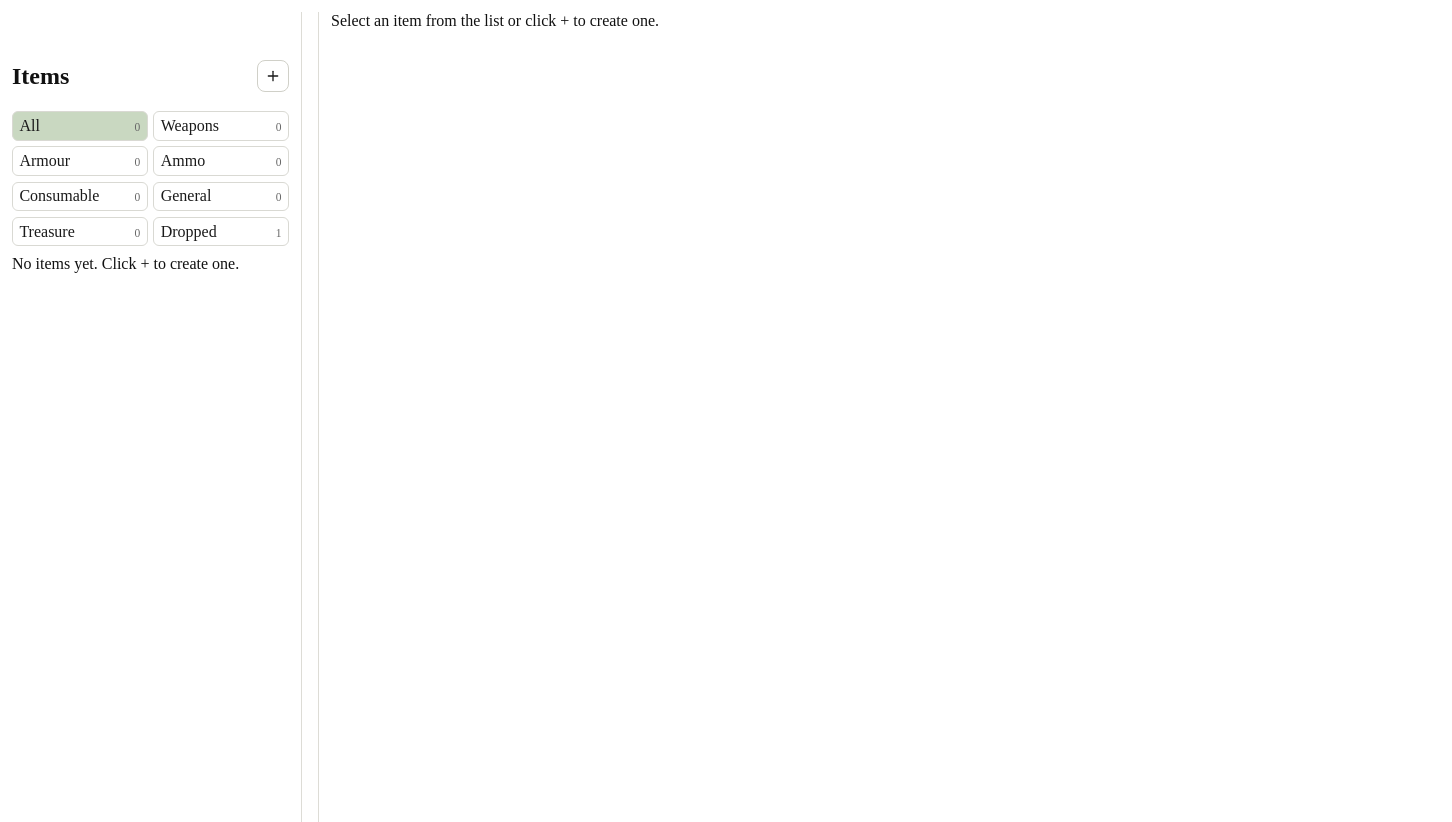
Test: Items tab character grants › refuses a character at stored version 0 with the plain message, writing nothing
Click the button "Dropped 1" at [221, 232], box 153,217 -> 289,246
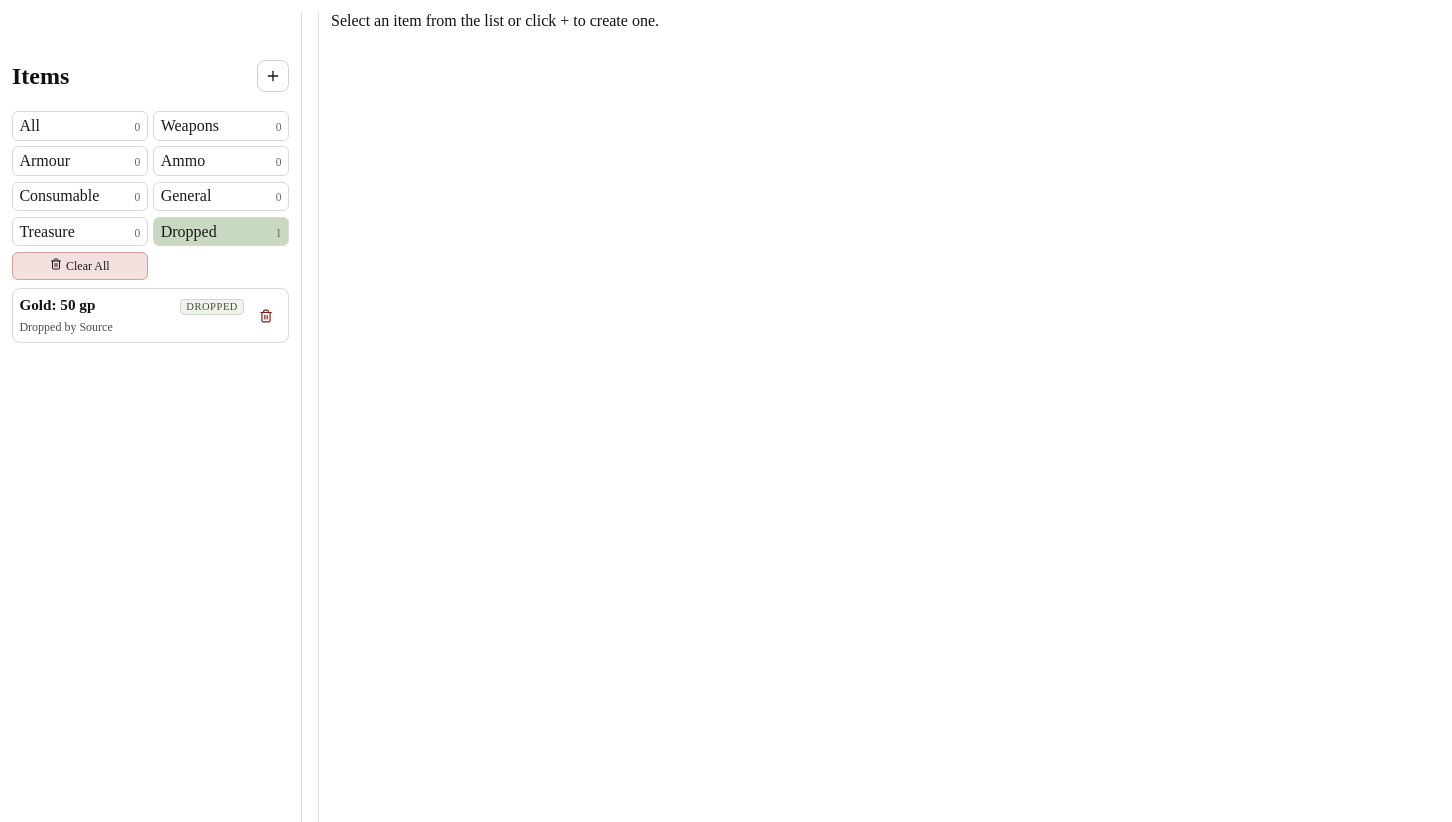
Click the button "Gold: 50 gp dropped Dropped by Source" at [57, 304], box 19,296 -> 244,336
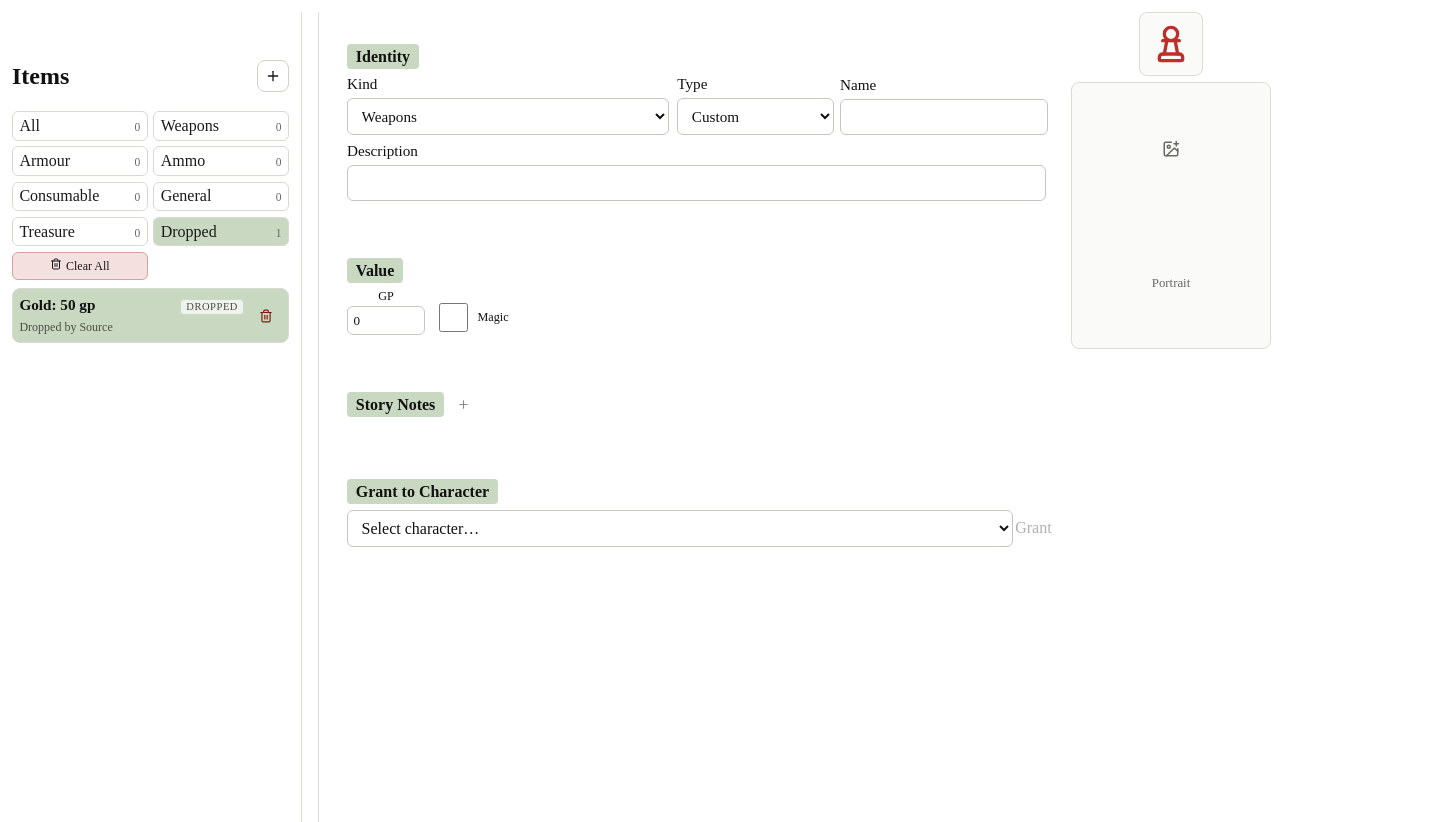
Select "Ada (Fighter 1)" in the 3rd dropdown at [680, 528], box 347,510 -> 1013,547
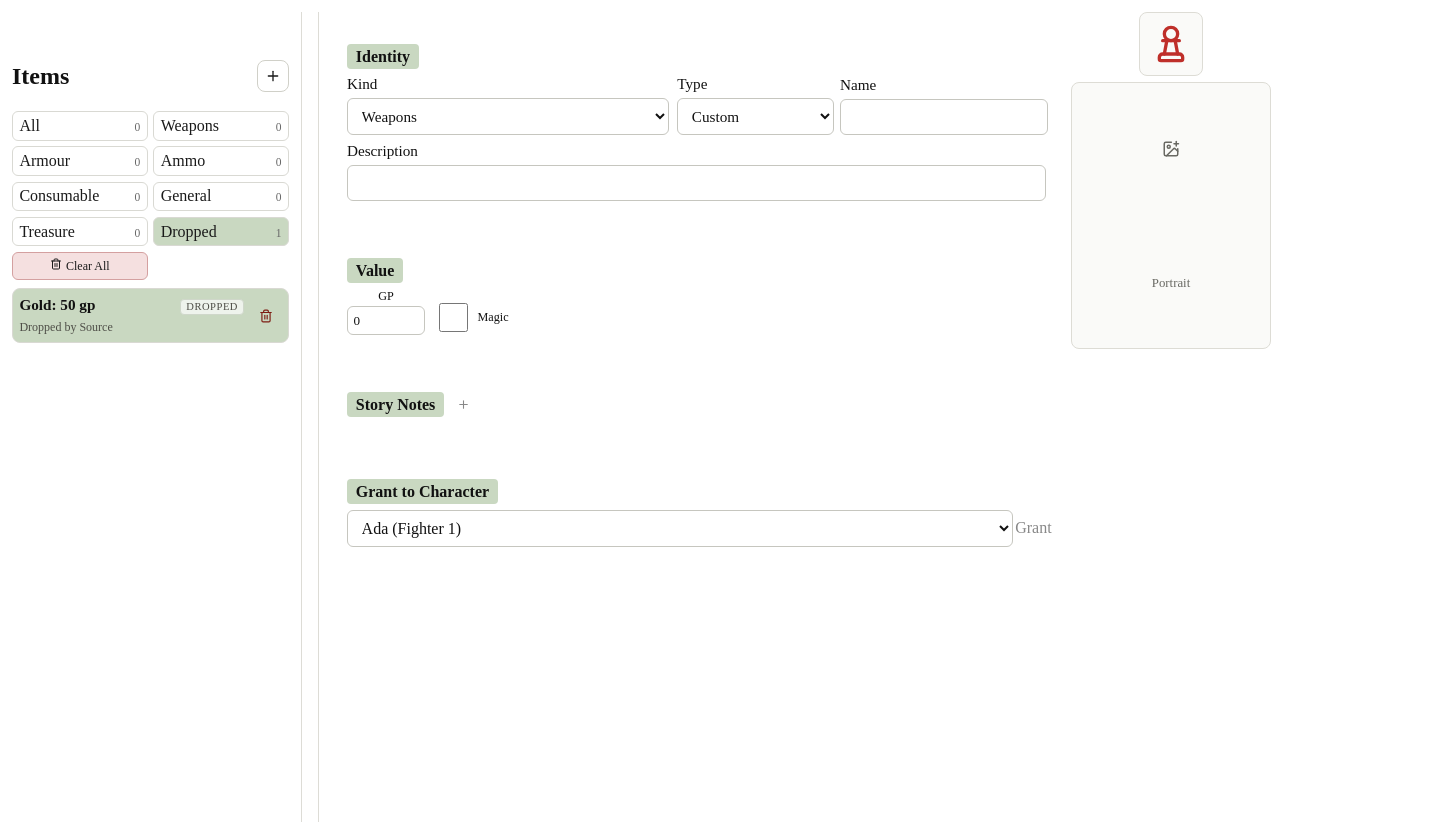
Click the button with aria-label "Grant item to selected character" at [1033, 528], box 1021,515 -> 1046,541
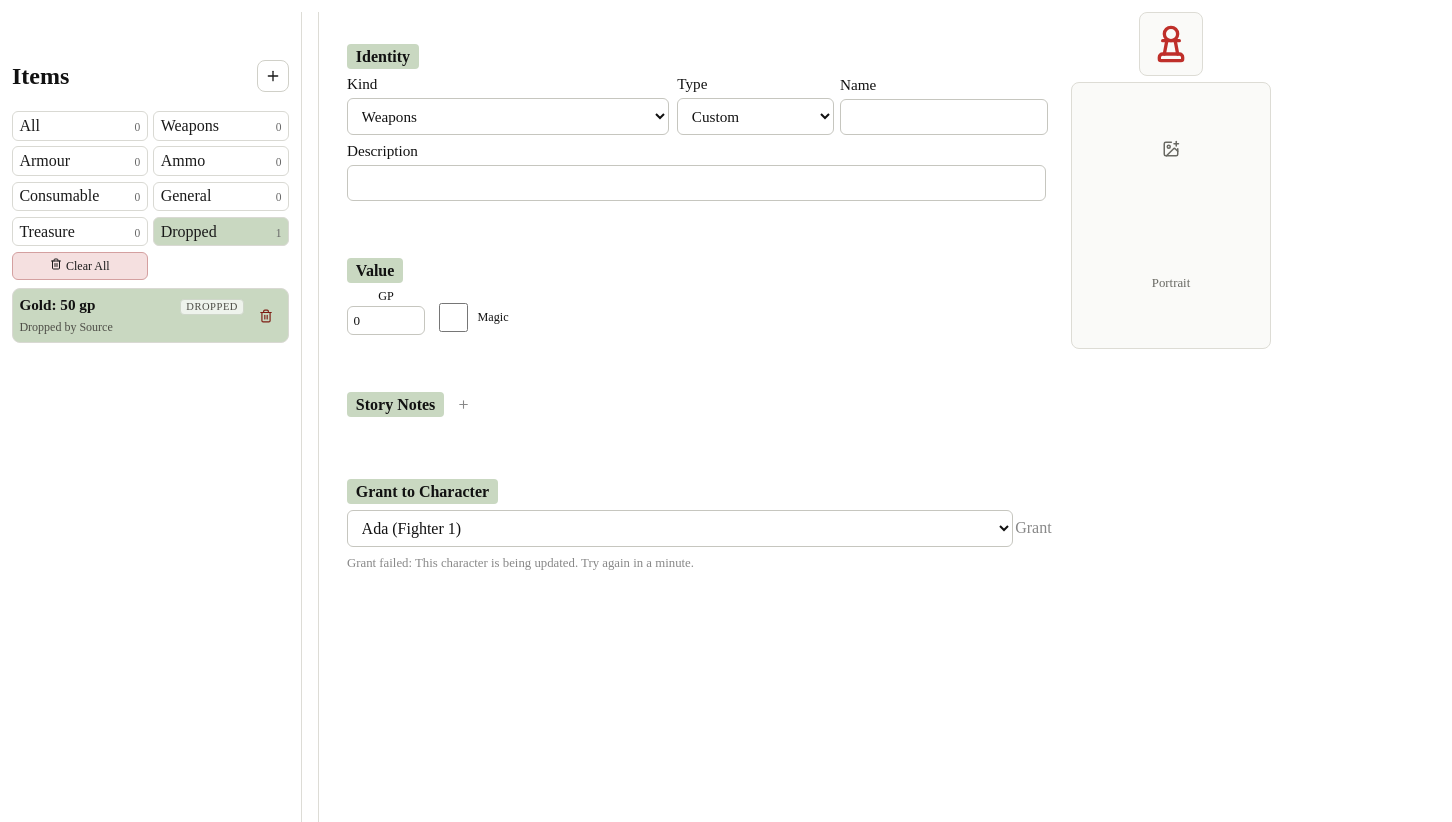
Expected: the button with aria-label "Grant item to selected character" is enabled, 1021,515 -> 1046,541
Expected: the text "Grant failed: This character is being updated. Try again in a minute." is shown, 347,556 -> 694,570
